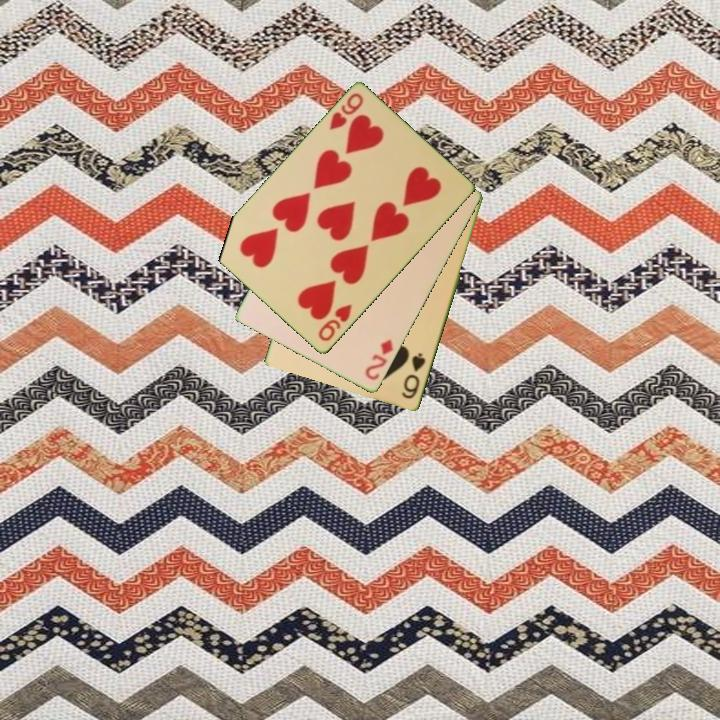2d: (362, 336, 396, 384)
6s: (398, 350, 429, 402)
9h: (314, 301, 355, 345), (326, 90, 366, 133)
